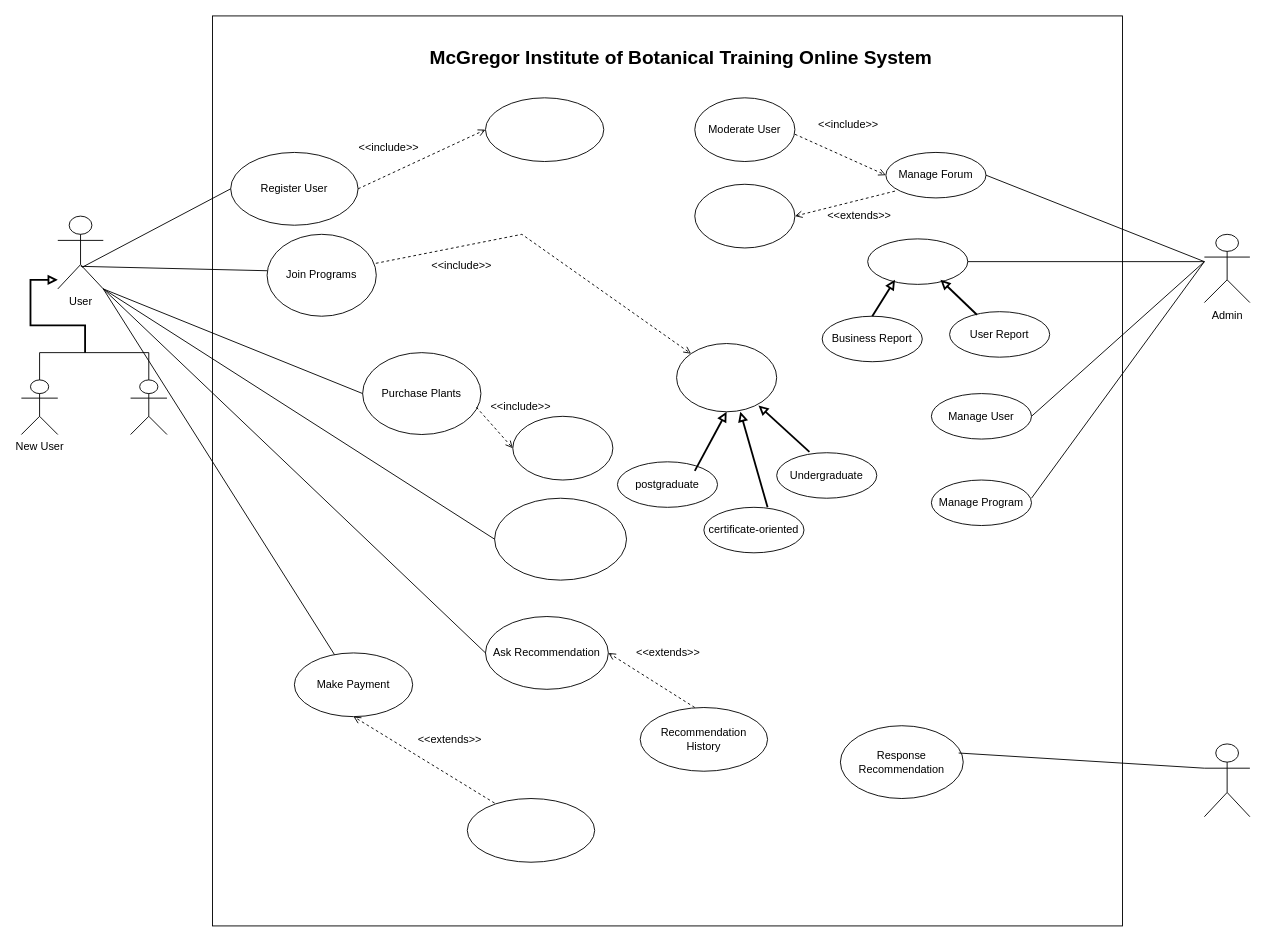
This 1266x942 diagram has some shape labels left out. Each missing label, with the centre of its shape:
"Apply Discount Code" belongs at point 562,447.
"Ban User" belongs at point 744,215.
"Experts" belongs at point 1226,780.
"Old User" belongs at point 148,407.
"Payment Method" belongs at point 530,830.
"Prepare Reports" belongs at point 917,261.
"Take Certification Exam" belongs at point 560,538.
"Verification" belongs at point 544,129.
"View Program Details" belongs at point 726,377.
